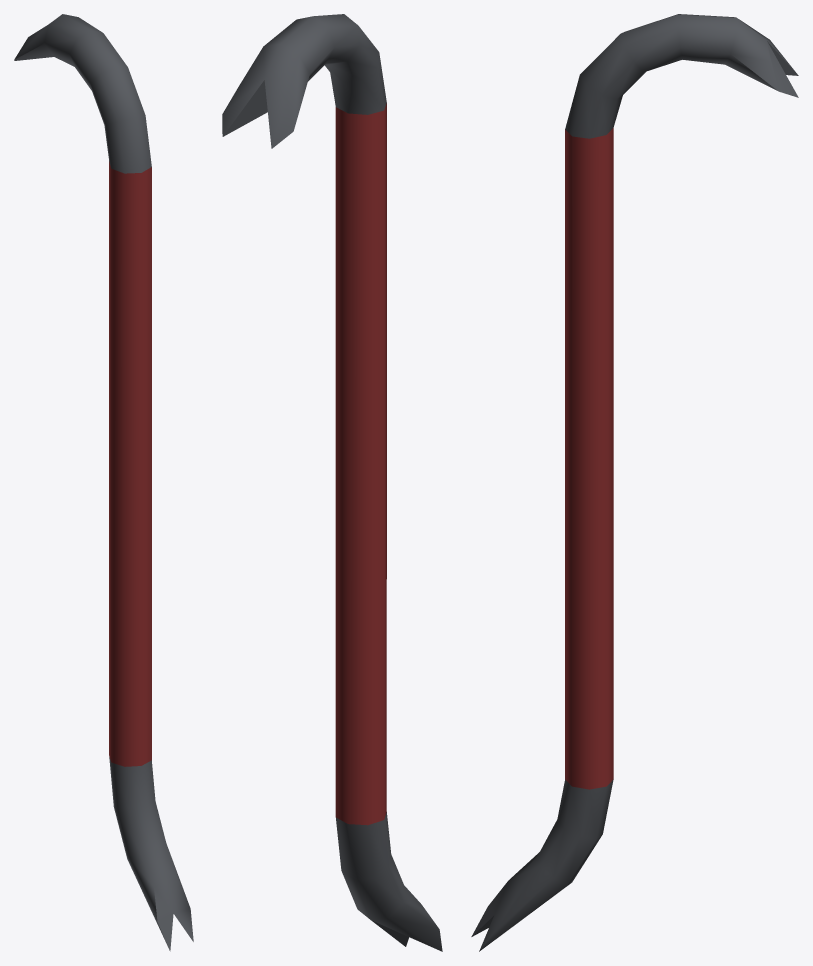
Rendered from crowbar.fbx.
3 renders of one model, left to right at view 1: azimuth 30°, elevation 25°; view 2: azimuth 150°, elevation 25°; view 3: azimuth 270°, elevation 25°, orthographic. The views are drawn at different scales.
Visible parts, largest first — view 1: Crowbar; view 2: Crowbar; view 3: Crowbar.
Part boxes in pixels (x1,y1,x2,y2): Crowbar: (14,14,193,951); Crowbar: (222,14,442,951); Crowbar: (471,14,798,951).
Size of the model in its own units: 0.0571 by 0.7755 by 0.2477.
